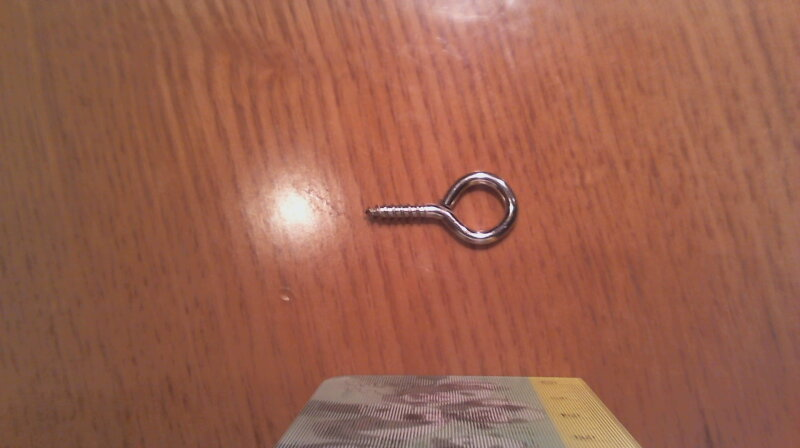O001: (363, 167, 525, 253)
